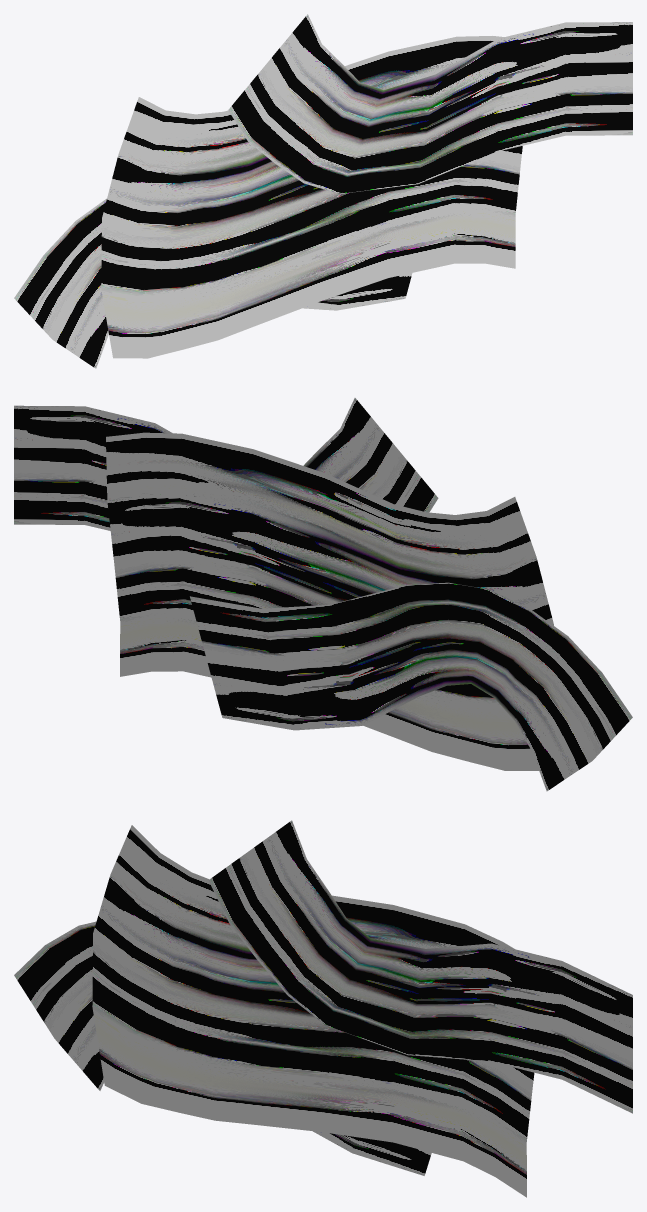
Rendered from Wind.FBX.
3 renders of one model, top to bottom at view 1: azimuth 30°, elevation 25°; view 2: azimuth 150°, elevation 25°; view 3: azimuth 330°, elevation 25°, orthographic. The views are drawn at different scales.
Visible parts, largest first — view 1: Wind; view 2: Wind; view 3: Wind.
Part boxes in pixels (<box>): Wind: <box>14,14,632,368</box>; Wind: <box>14,398,632,791</box>; Wind: <box>14,820,632,1197</box>.
Size of the model in its own units: 298 by 12.26 by 152.
